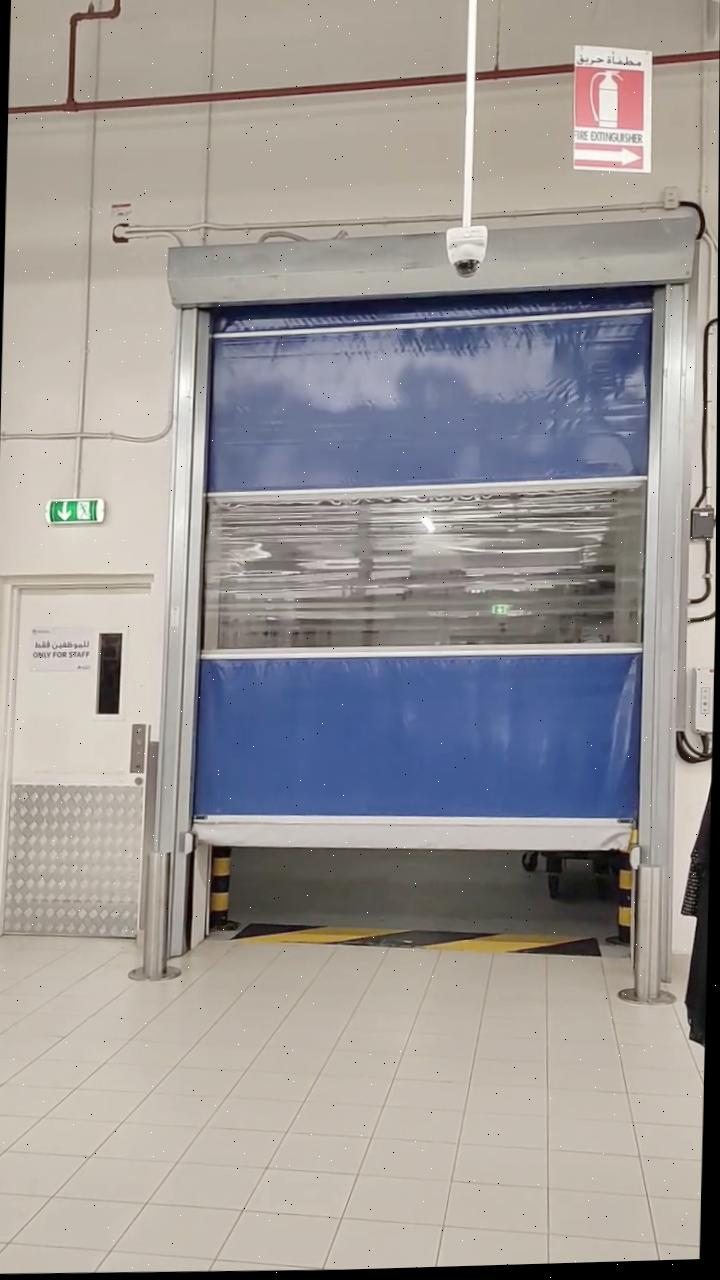Strip: (234, 919, 607, 966)
